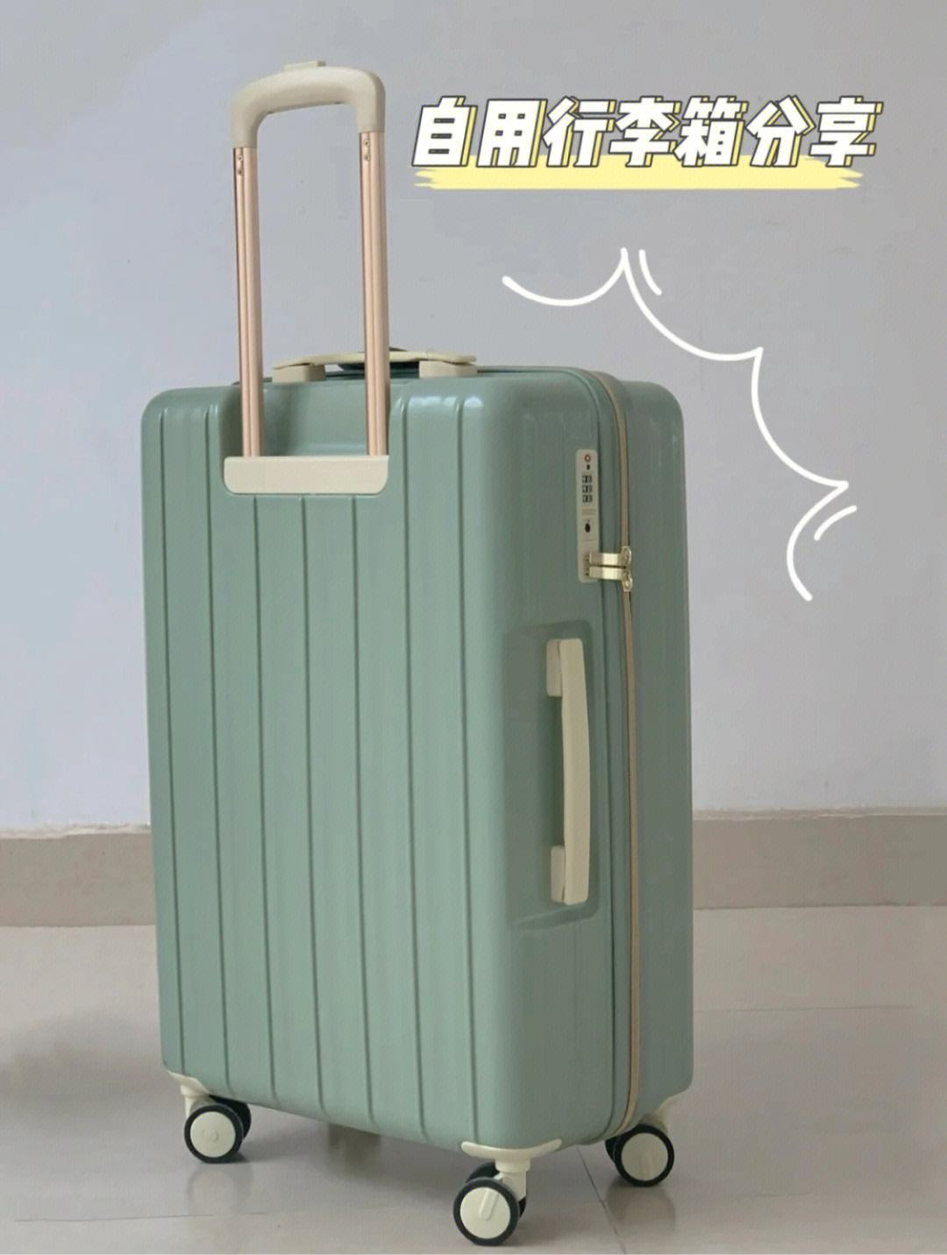box: (143, 367, 693, 1152)
handle: (542, 634, 591, 911), (271, 353, 480, 385)
lock: (575, 446, 629, 587)
wheel: (452, 1162, 529, 1243), (184, 1096, 253, 1164), (604, 1121, 675, 1187)
